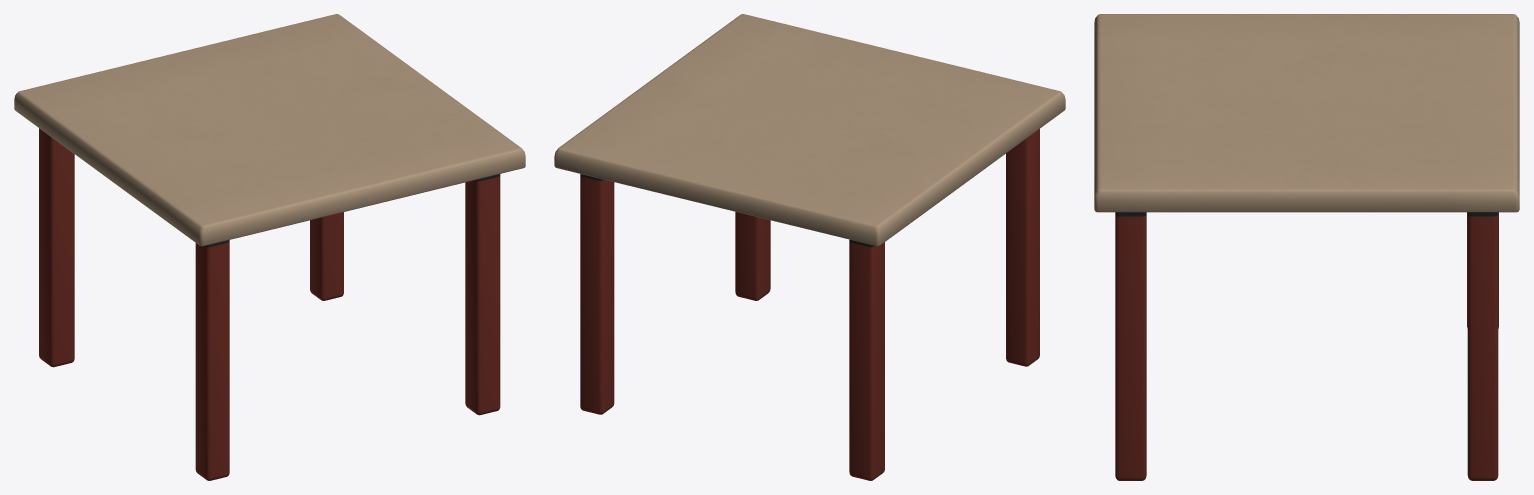
Rendered from tisch.fbx.
3 renders of one model, left to right at view 1: azimuth 30°, elevation 25°; view 2: azimuth 150°, elevation 25°; view 3: azimuth 270°, elevation 25°, orthographic. The views are drawn at different scales.
Parts seen in each view (by area): view 1: tisch; view 2: tisch; view 3: tisch.
Part boxes in pixels (bbox=[...]): tisch: bbox=[14, 14, 525, 480]; tisch: bbox=[554, 14, 1065, 480]; tisch: bbox=[1094, 14, 1519, 480].
Size of the model in its own units: 60 by 46.68 by 60.
